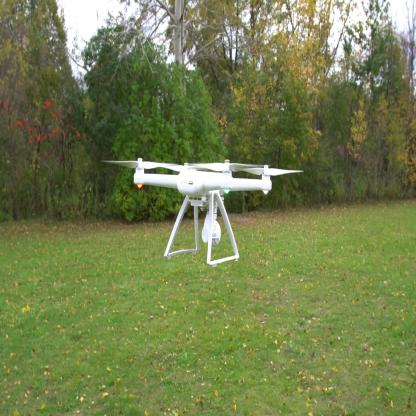drone: (98, 149, 306, 220)
